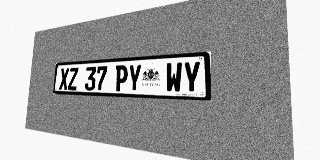3: (85, 66, 96, 91)
7: (95, 66, 107, 91)
P: (115, 65, 128, 91)
W: (165, 62, 182, 93)
X: (59, 68, 69, 90)
Y: (183, 61, 201, 93), (127, 64, 142, 92)
Z: (68, 67, 79, 90)
